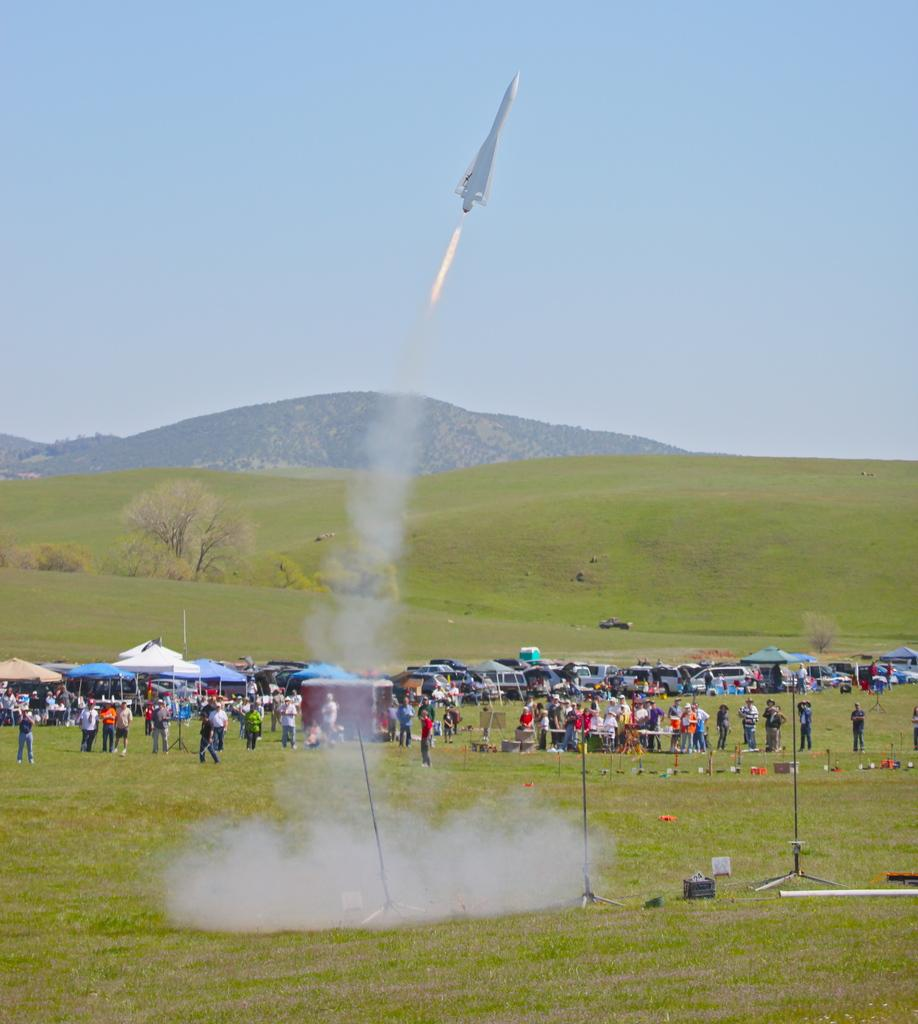Missile: (451, 67, 521, 216)
